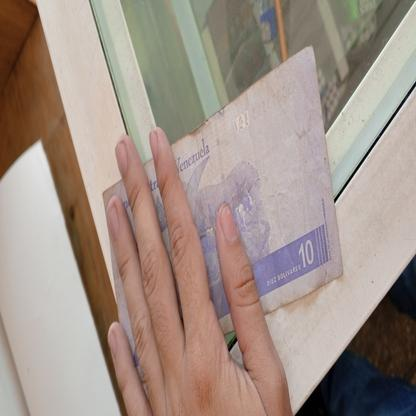ten-back-vef: (102, 45, 342, 379)
